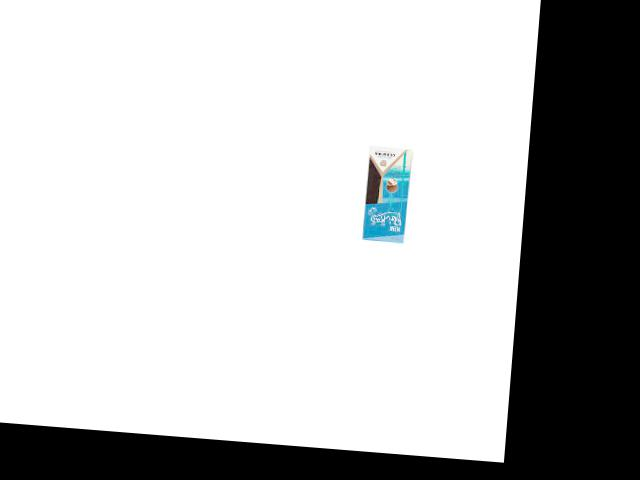chocolate: (359, 142, 413, 245)
